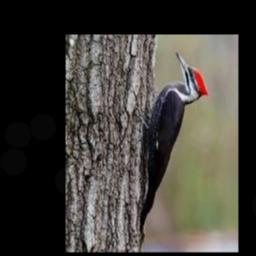Woodpecker: (136, 50, 209, 240)
